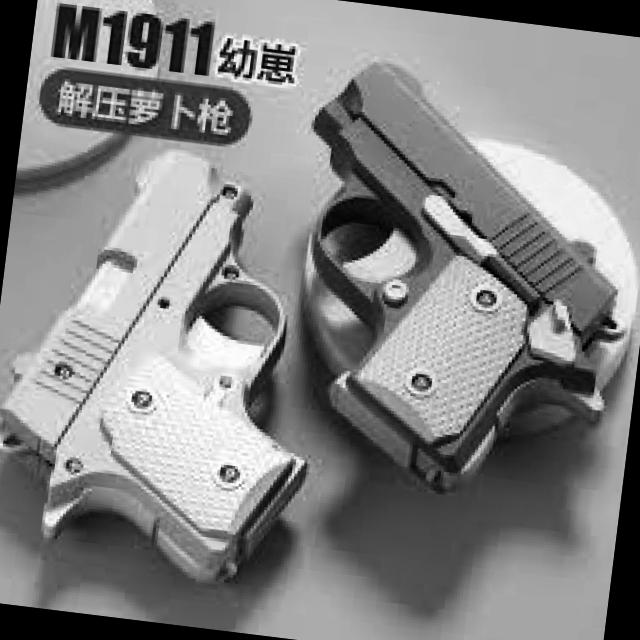gun: (265, 49, 640, 514), (0, 127, 343, 592)
